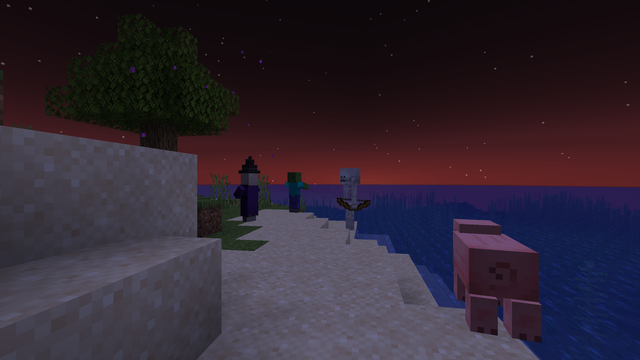cochons: (439, 229, 556, 335)
sorcieres: (238, 171, 259, 222)
squelettes: (339, 168, 358, 231)
zombies: (287, 173, 301, 212)
